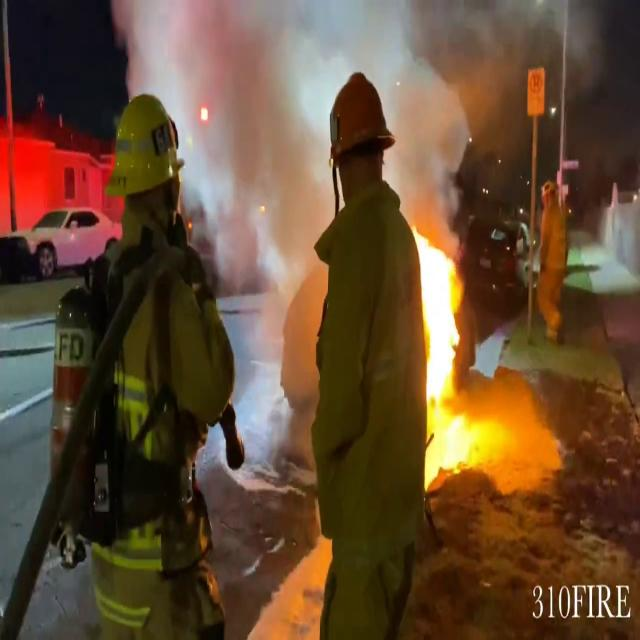Fire: (413, 220, 463, 412)
Smoke: (125, 0, 325, 270)
